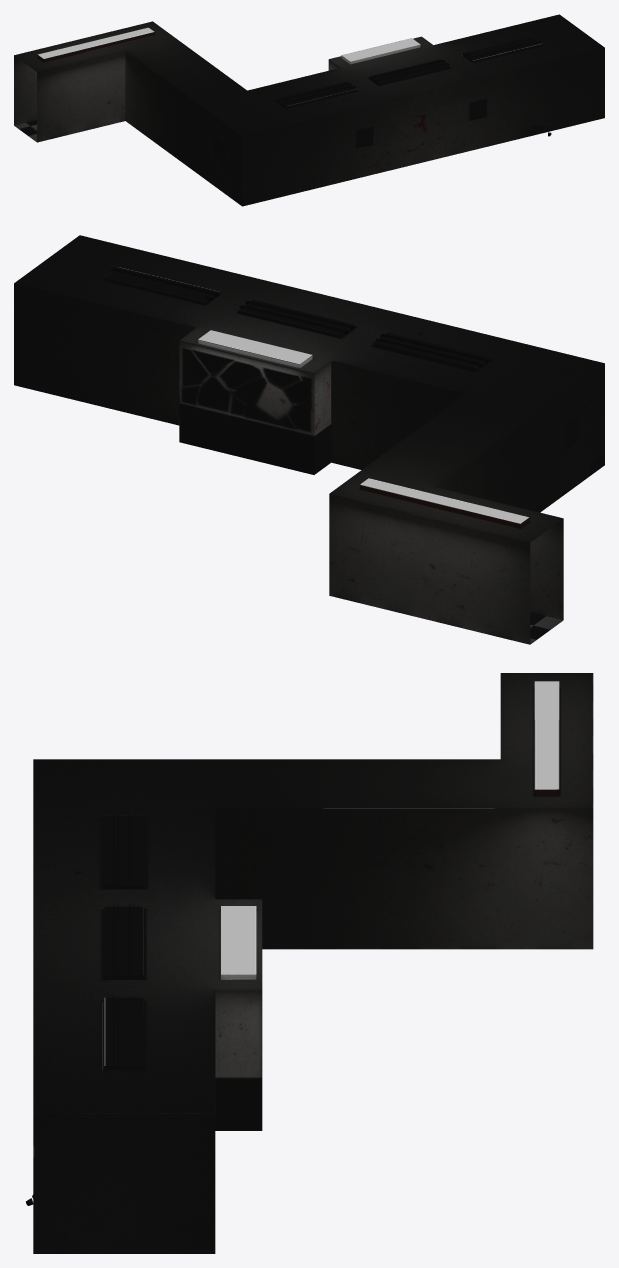
Rendered from spooky_hallway_-_blender_cycles_bake(1).glb.
3 views of the same model, one above another, from view 1: azimuth 30°, elevation 25°; view 2: azimuth 150°, elevation 25°; view 3: azimuth 270°, elevation 25° (orthographic). The views are drawn at different scales.
Parts seen in each view (by area): view 1: Cube, Cube.001; view 2: Cube, Cube.001; view 3: Cube, Cube.001.
Part boxes in pixels (x1=…): Cube: x1=14, y1=14, x2=604, y2=206; Cube.001: x1=277, y1=40, x2=541, y2=105; Cube: x1=14, y1=235, x2=604, y2=644; Cube.001: x1=111, y1=268, x2=489, y2=367; Cube: x1=33, y1=673, x2=593, y2=1253; Cube.001: x1=113, y1=813, x2=134, y2=1069.
Size of the model in its own units: 14.91 by 2.44 by 8.12.
5 materials, 5 textured.
